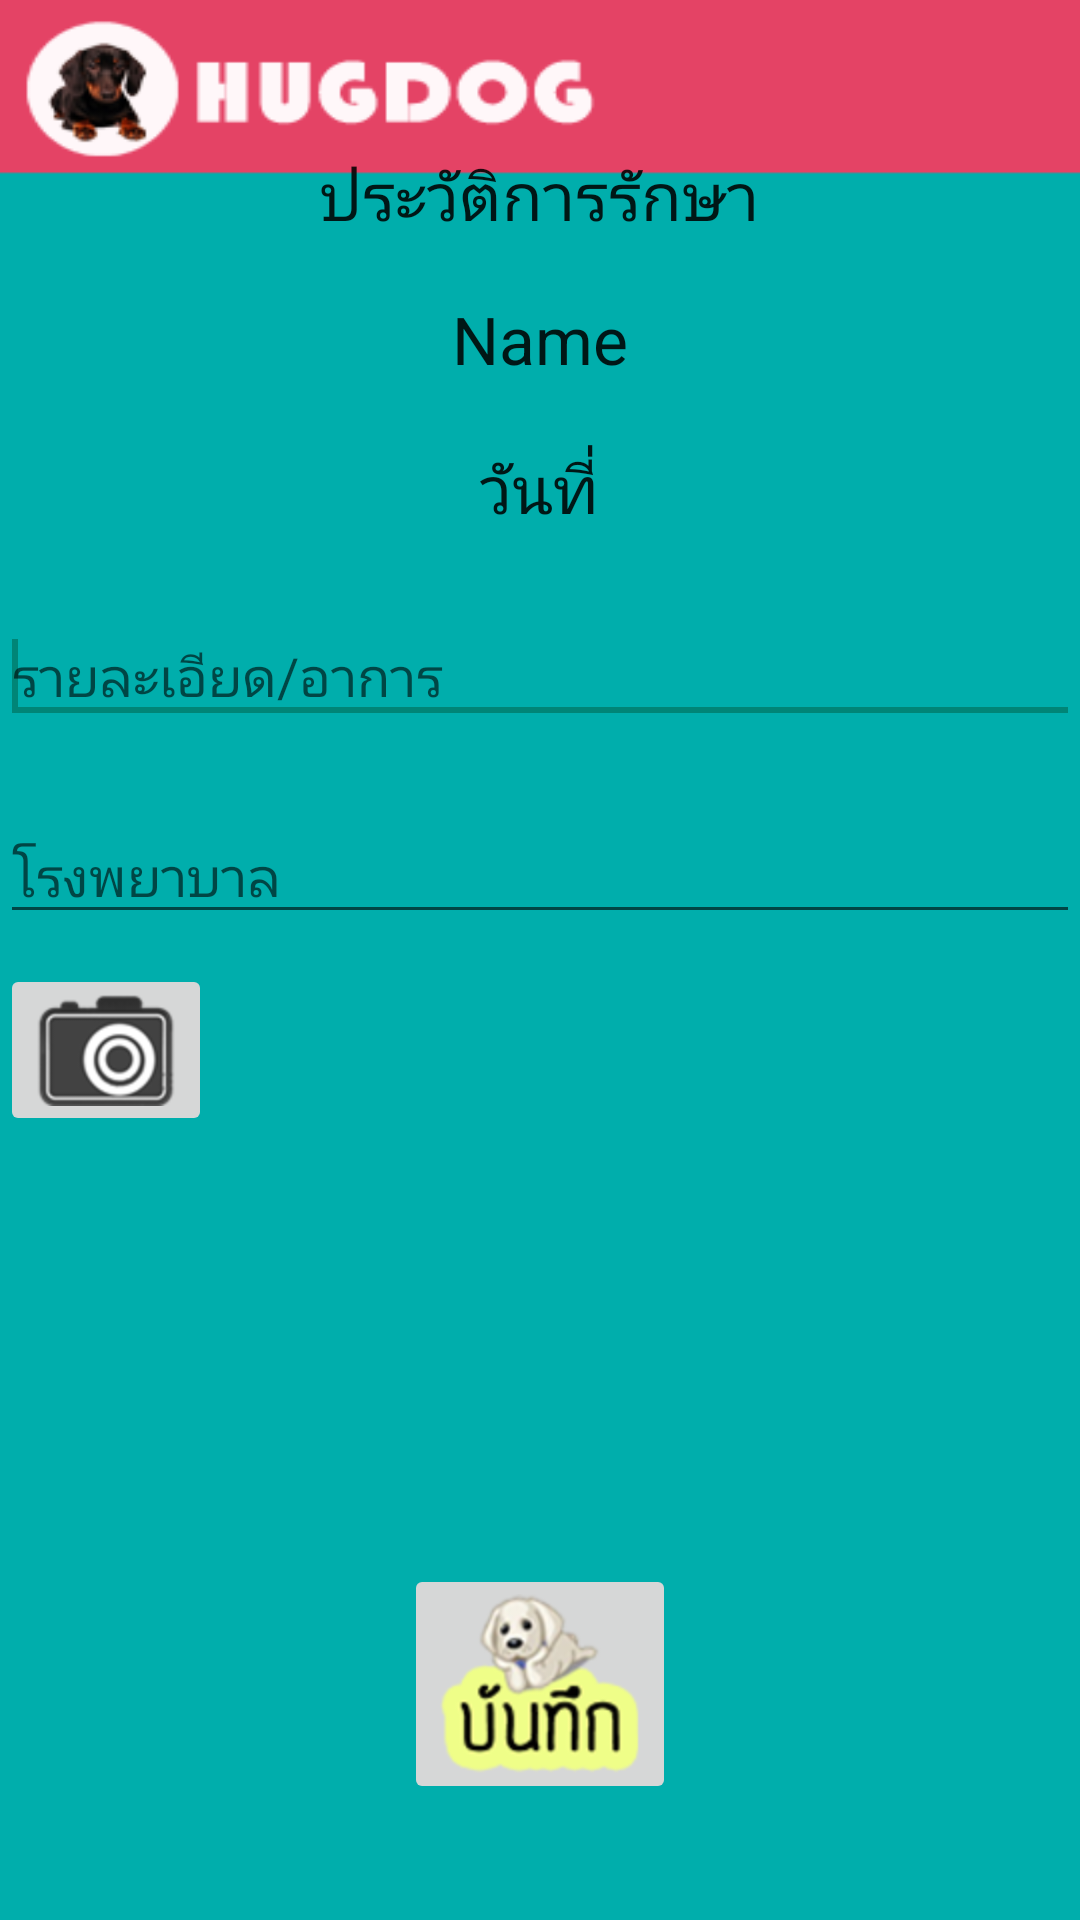

Icons on this 1080px x 1920px Android screen, each with its box as (x1, y1, x2, y2):
cam: (12, 982, 200, 1118)
